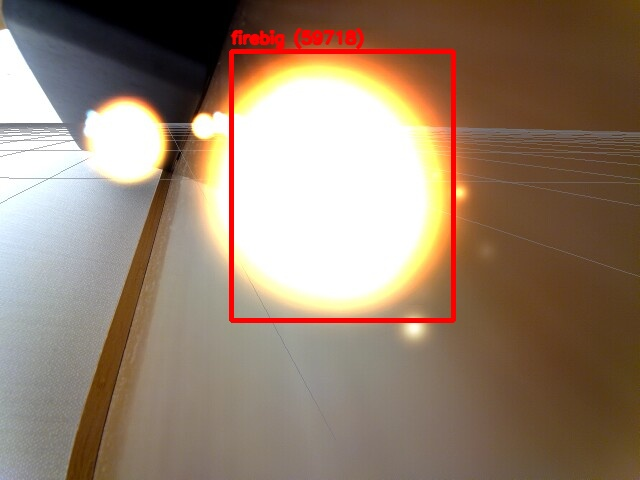firebig: (231, 51, 453, 320)
